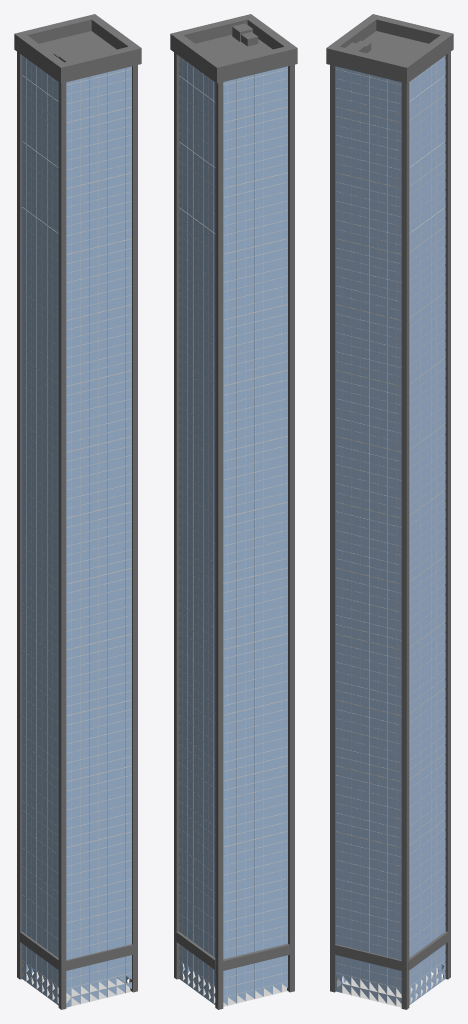
File: bld_realistic-skyscraper.glb
3 views of the same model, side by side, from view 1: azimuth 30°, elevation 25°; view 2: azimuth 210°, elevation 25°; view 3: azimuth 330°, elevation 25° (orthographic).
Parts seen in each view (by area): view 1: Cube_Material.001_0, Cube.001_Material.004_0, Cube_Material.002_0; view 2: Cube_Material.001_0, Cube.001_Material.004_0, Cube_Material.002_0; view 3: Cube_Material.001_0, Cube.001_Material.004_0, Cube_Material.002_0.
Boxes of the visible parts, x1,y1,x2,y2 form: Cube_Material.001_0: (22,55,131,1007); Cube.001_Material.004_0: (14,14,141,1009); Cube_Material.002_0: (22,56,131,1007); Cube_Material.001_0: (179,56,287,1005); Cube.001_Material.004_0: (170,14,297,1009); Cube_Material.002_0: (179,57,287,1006); Cube_Material.001_0: (336,55,445,1005); Cube.001_Material.004_0: (326,14,453,1009); Cube_Material.002_0: (336,56,445,1007).
Bounding box in the file's own units: 17.97 × 200 × 17.97.
